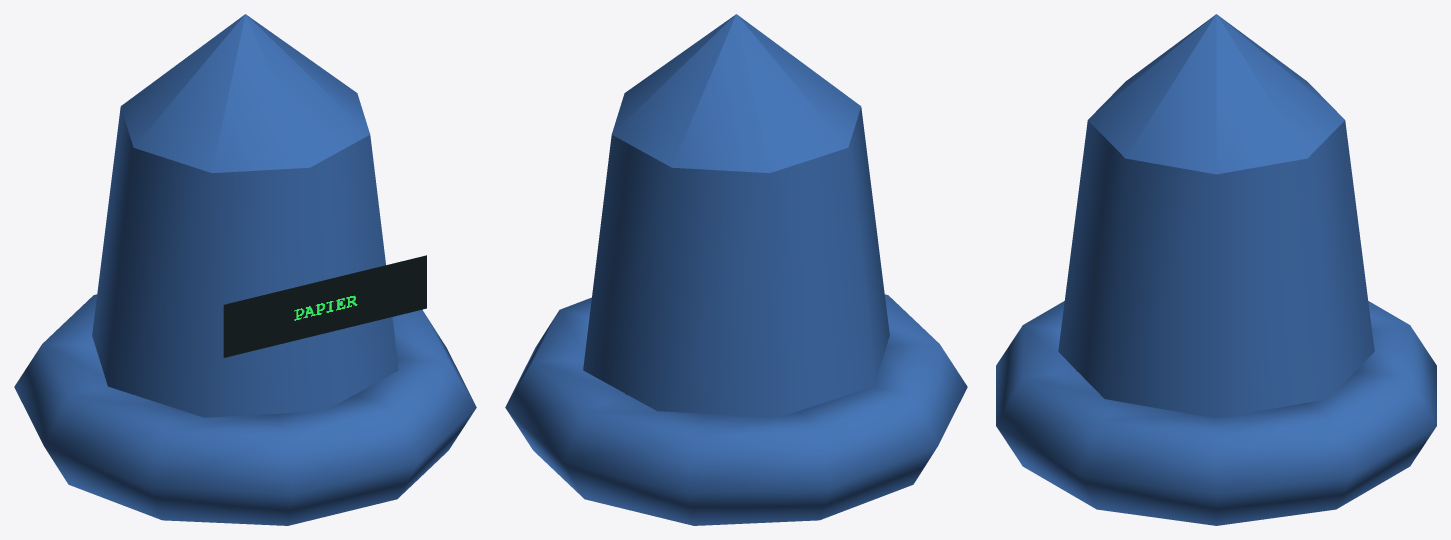
File: recycling-buoy-blue.glb
3 renders of one model, left to right at view 1: azimuth 30°, elevation 25°; view 2: azimuth 150°, elevation 25°; view 3: azimuth 270°, elevation 25°, orthographic.
Parts seen in each view (by area): view 1: RecyclingBuoy_PAPIER; view 2: RecyclingBuoy_PAPIER; view 3: RecyclingBuoy_PAPIER.
Boxes of the visible parts, x1,y1,x2,y2 form: RecyclingBuoy_PAPIER: (14, 14, 476, 525); RecyclingBuoy_PAPIER: (505, 14, 967, 525); RecyclingBuoy_PAPIER: (996, 14, 1436, 525).
Bounding box in the file's own units: 1.98 × 2.01 × 1.88.
Materials: 4 (1 with a texture image).
